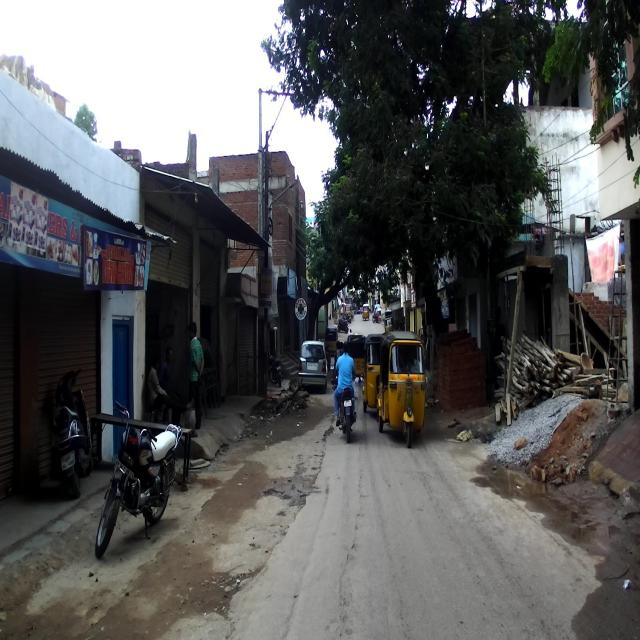Car_Hyundai: (297, 340, 328, 392)
autorickshaw: (376, 329, 427, 448)
motorcycle_Hero: (95, 392, 183, 556)
motorcycle_bajaj: (330, 368, 358, 444)
scooter: (52, 364, 92, 499)
